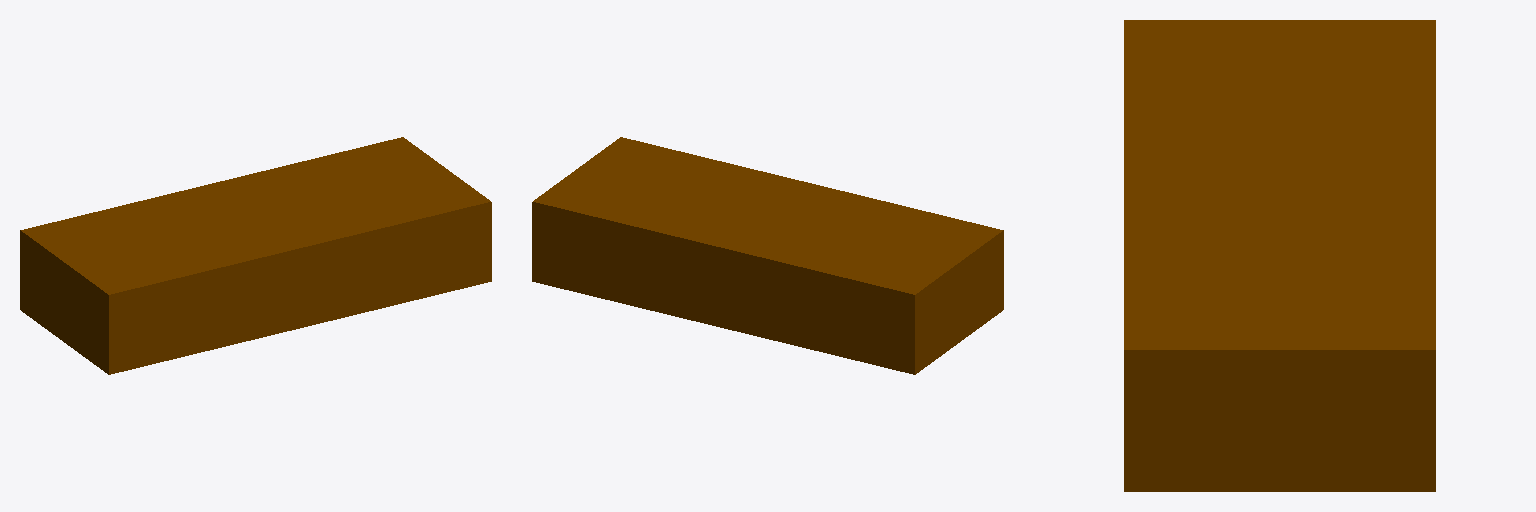
URDF robot description (mycar):
<!-- 
    创建一个机器人模型(盒状即可)，显示在 Gazebo 中 
-->
<robot name="mycar">
    <link name="base_link">
        <visual>
            <geometry>
                <box size="0.5 0.2 0.1" />
            </geometry>
            <origin xyz="0.0 0.0 0.0" rpy="0.0 0.0 0.0" />
            <material name="yellow">
                <color rgba="0.5 0.3 0.0 1" />
            </material>
        </visual>
        <collision>
            <geometry>
                <box size="0.5 0.2 0.1" />
            </geometry>
            <origin xyz="0.0 0.0 0.0" rpy="0.0 0.0 0.0" />
        </collision>
        <inertial>
            <origin xyz="0 0 0" />
            <mass value="6" />
            <inertia ixx="1" ixy="0" ixz="0" iyy="1" iyz="0" izz="1" />
        </inertial>
    </link>
    <gazebo reference="base_link">
        <material>Gazebo/Black</material>
    </gazebo>

</robot>

--- Render facts (derived) ---
Views: 3 orthographic renders of the robot side by side, from view 1: azimuth 30°, elevation 25°; view 2: azimuth 150°, elevation 25°; view 3: azimuth 270°, elevation 25°.
Robot: mycar — 1 links, 0 joints (none); root link base_link; default pose: every joint at zero.
Links seen in each view (by area): view 1: base_link; view 2: base_link; view 3: base_link.
Boxes of the visible links, x1,y1,x2,y2 form: base_link: (20,137,491,374); base_link: (532,137,1003,374); base_link: (1124,20,1435,491).
Bounding box of the posed robot: 0.5 × 0.2 × 0.1 m (x, y, z).
Geometry: primitives only (box / cylinder / sphere), no mesh files.